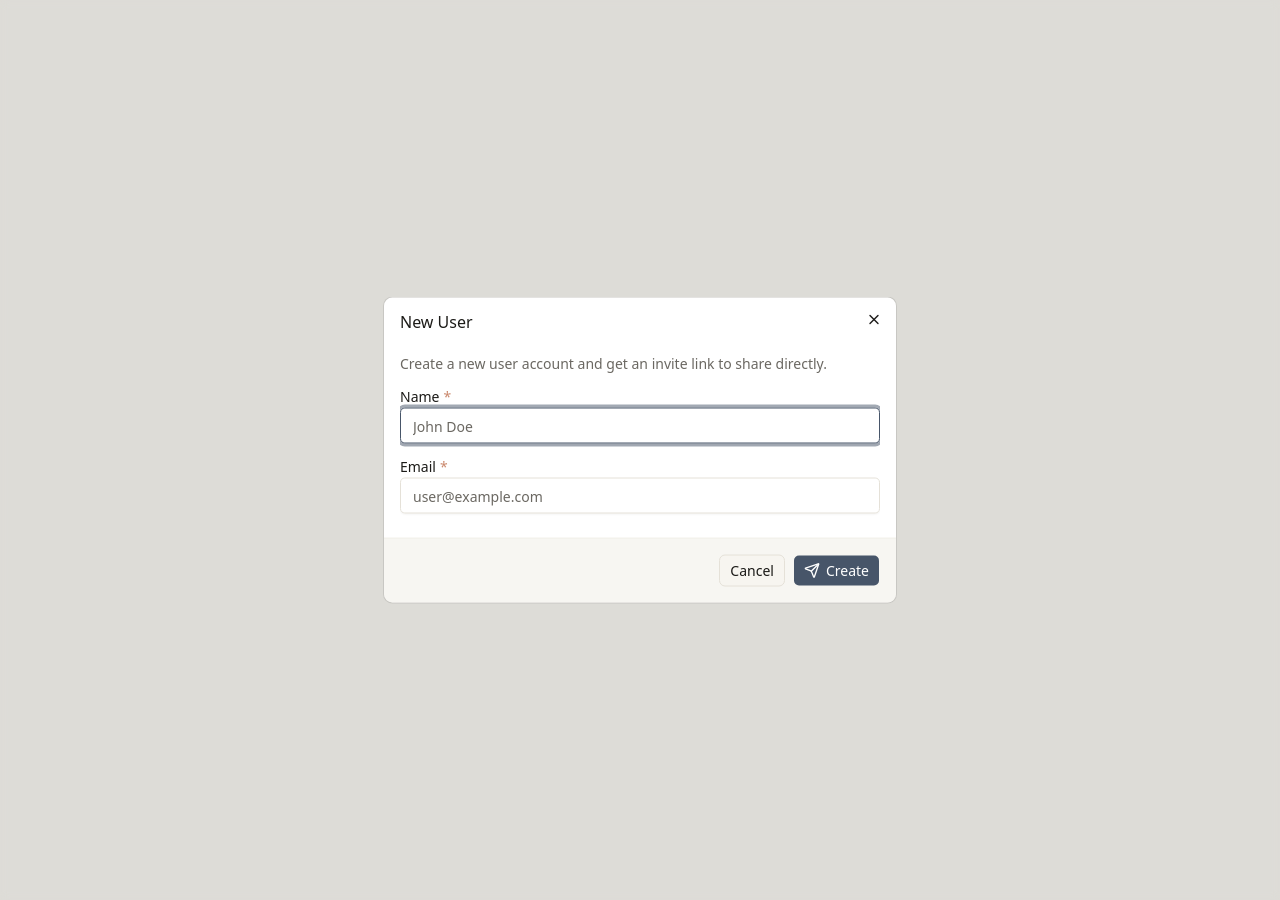
Test: InviteDialog › posts the invite and reports the created user
Step 1. Type "New Analyst" into the field with placeholder "John Doe" → [640, 426], box left=400, top=408, right=880, bottom=444
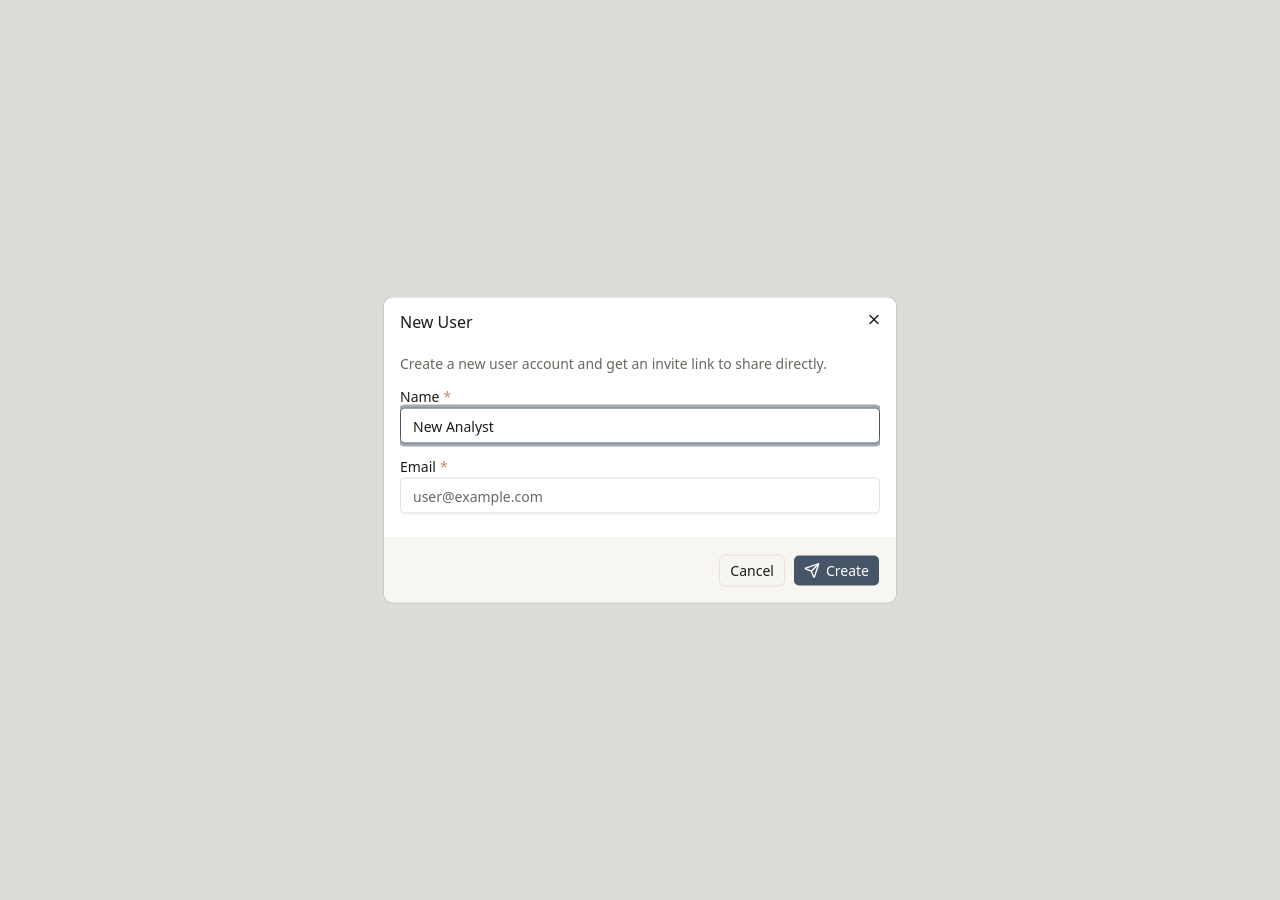
Step 2. Type "new@example.com" into the field with placeholder "user@example.com" → [640, 496], box left=400, top=478, right=880, bottom=514
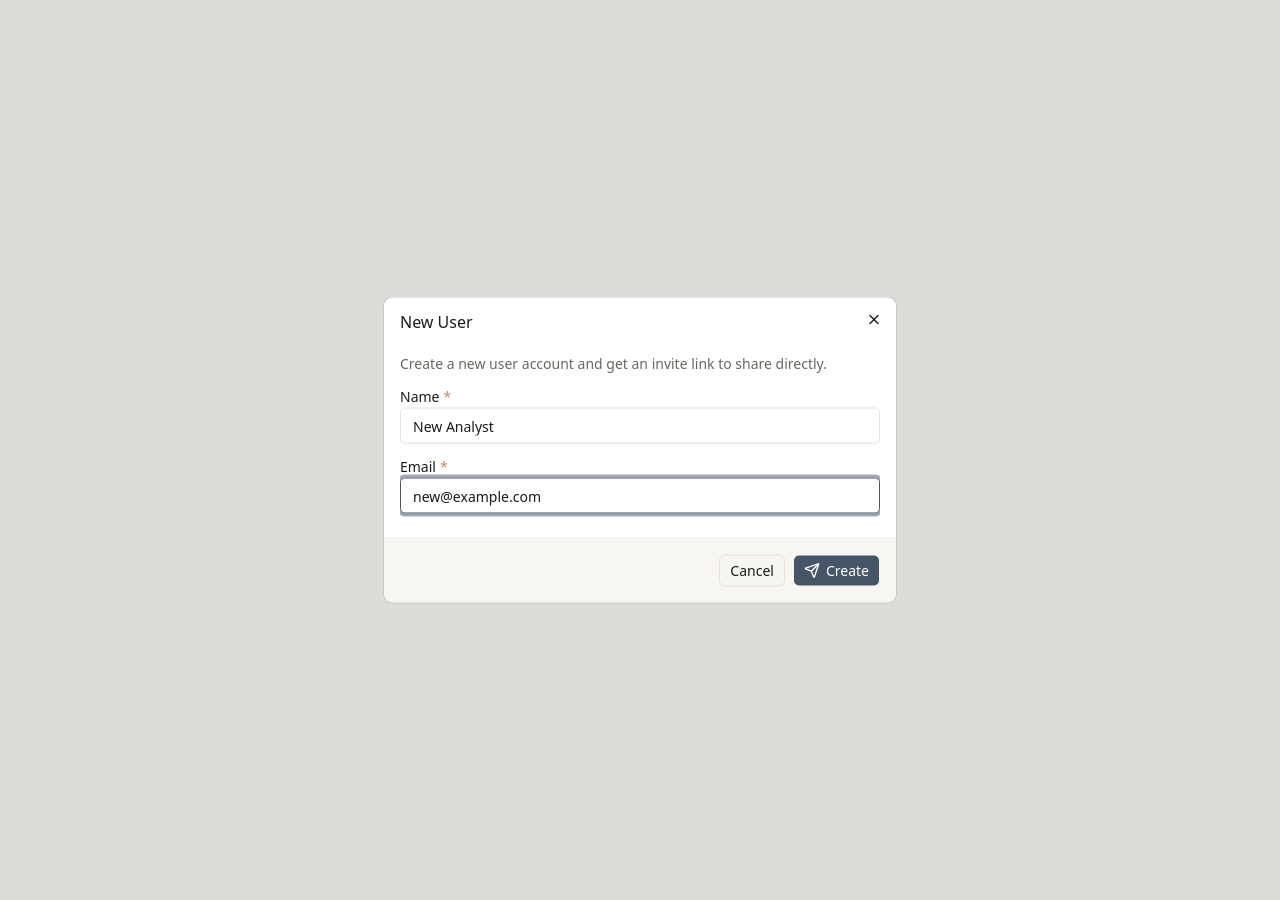
Step 3. Click the button "Create" → [836, 570], box left=793, top=554, right=880, bottom=586
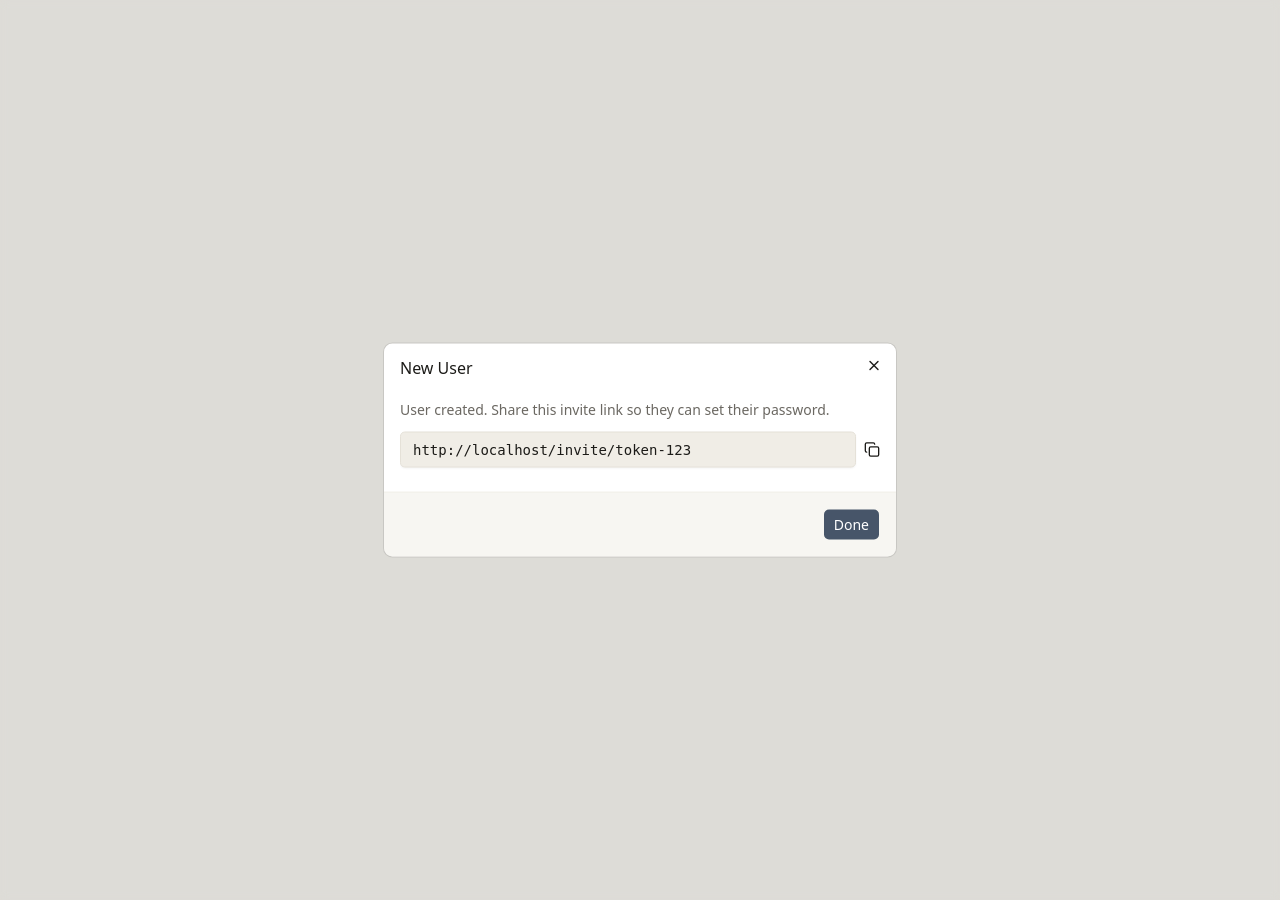
Check: the field showing "/invite/token-123" is shown, box left=400, top=432, right=856, bottom=468
